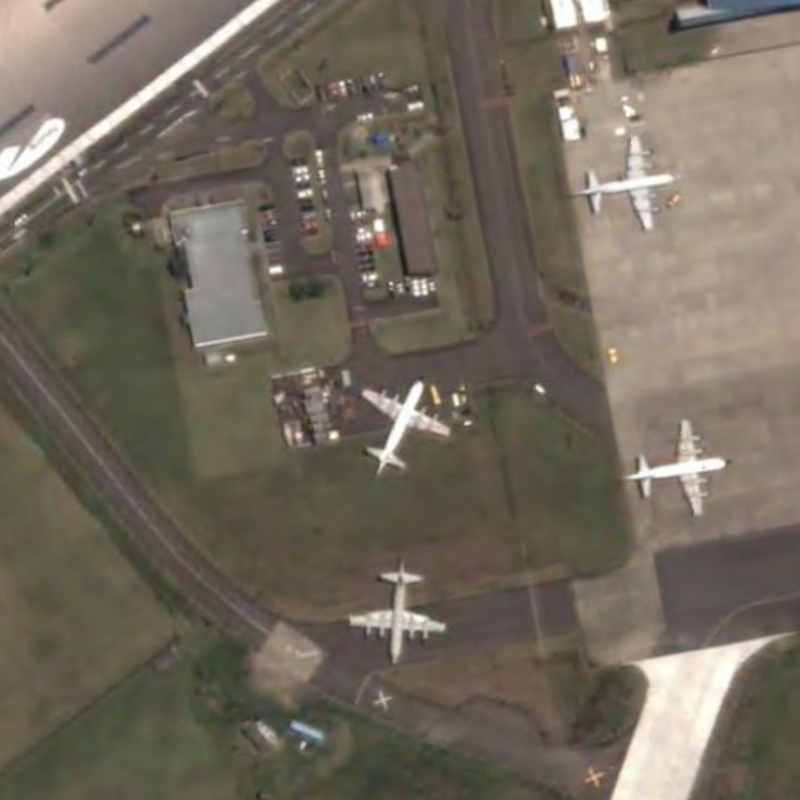A9: (610, 405, 736, 523), (340, 552, 460, 670), (568, 123, 683, 233), (354, 362, 452, 482)
